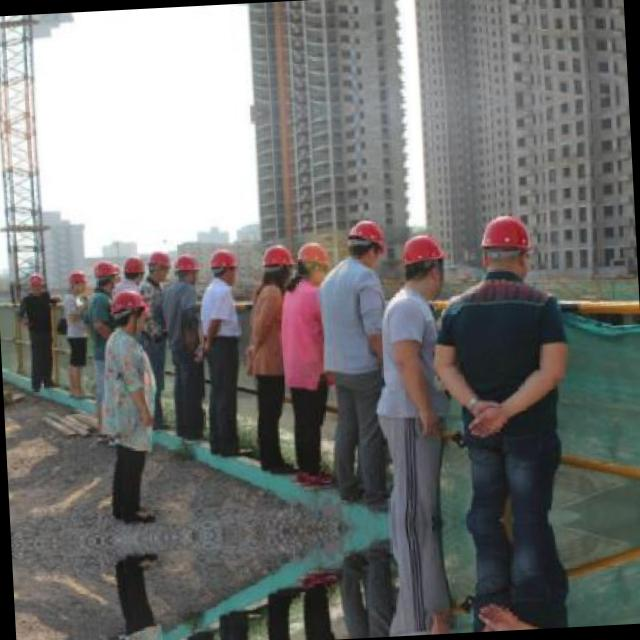helmet: (474, 210, 534, 282), (394, 230, 449, 297), (347, 212, 388, 266), (110, 286, 150, 331), (292, 239, 332, 279), (260, 240, 294, 286), (170, 248, 202, 286), (208, 244, 238, 280), (146, 250, 172, 280), (122, 252, 146, 282), (92, 258, 116, 288), (66, 265, 86, 292), (27, 272, 42, 294)
